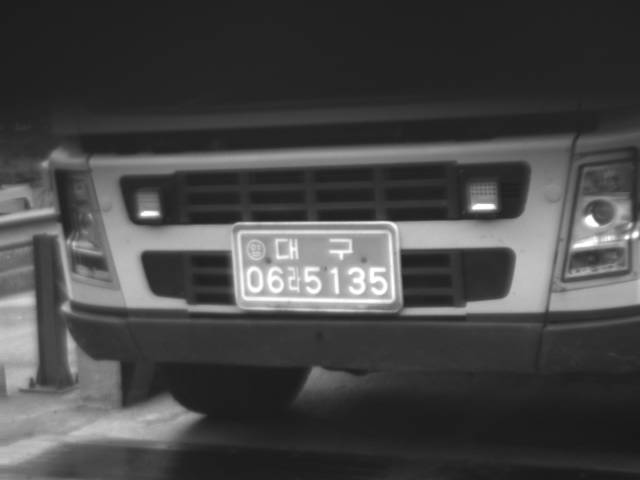car: (42, 92, 639, 423)
plate: (229, 221, 402, 308)
